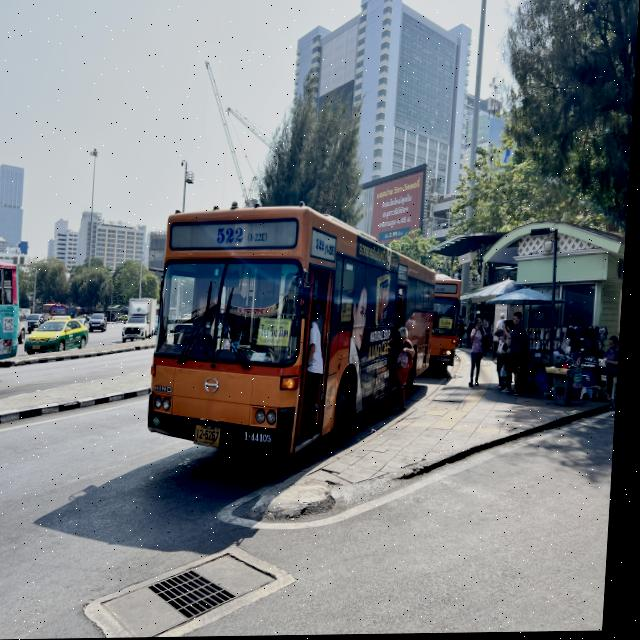BMTA-bus: (150, 206, 450, 462), (431, 273, 467, 375)
Bus-Line-Number: (215, 222, 273, 250)
Destination-Sign-Normal-Expressway: (261, 316, 296, 350)
